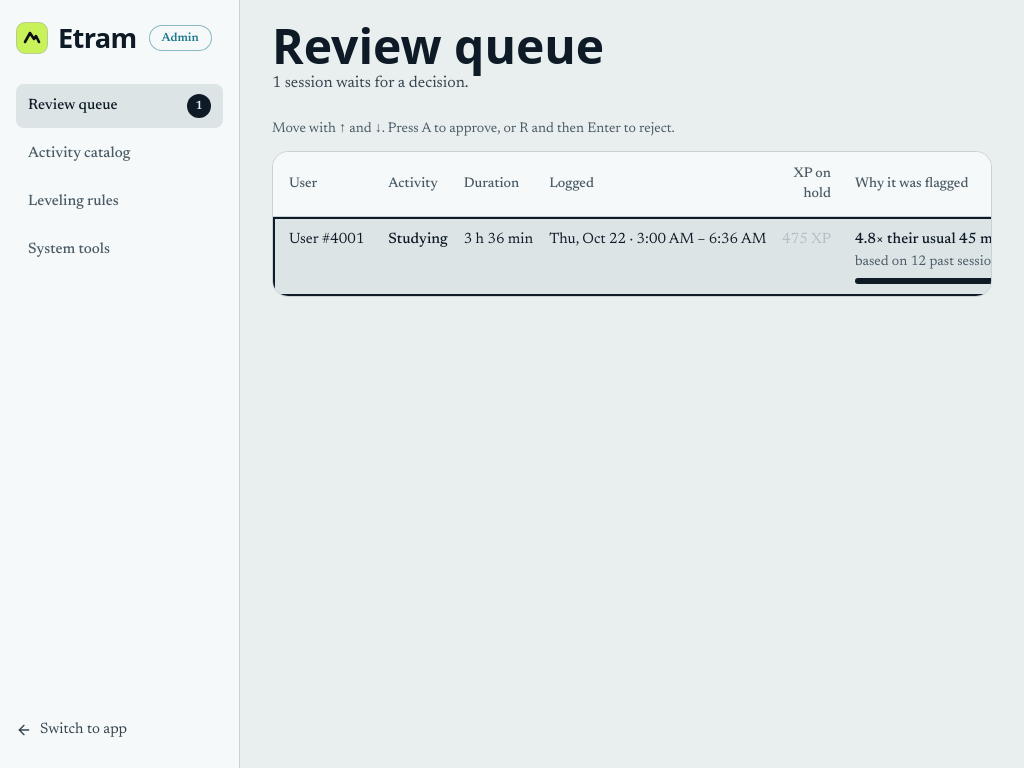
Test: Review queue — the side panel › opens the evidence for a row, and decides from it
The image size is (1024, 768).
Click the text "User #4001": (648, 256) [273, 217, 1023, 296]
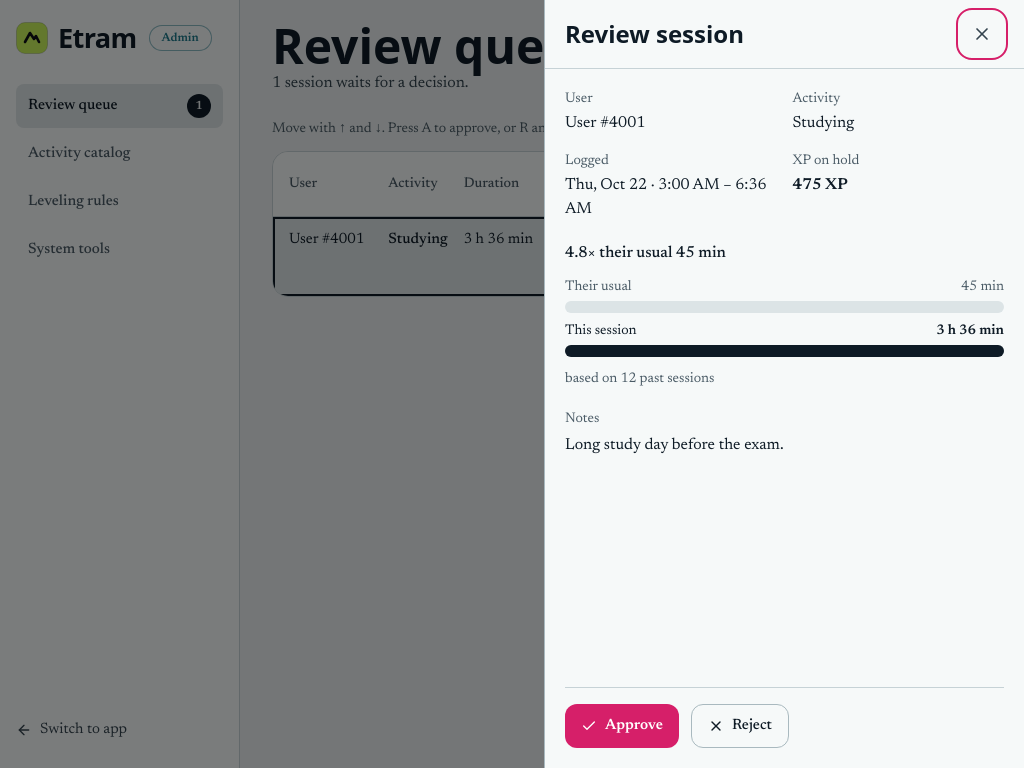
Expected: the heading "4.8× their usual 45 min" is shown, [565, 245, 726, 261]
Expected: the text "Their usual" is shown, [565, 277, 632, 297]
Expected: the text "This session" is shown, [565, 321, 637, 341]
Click the button "Approve": (622, 726) [565, 704, 679, 748]
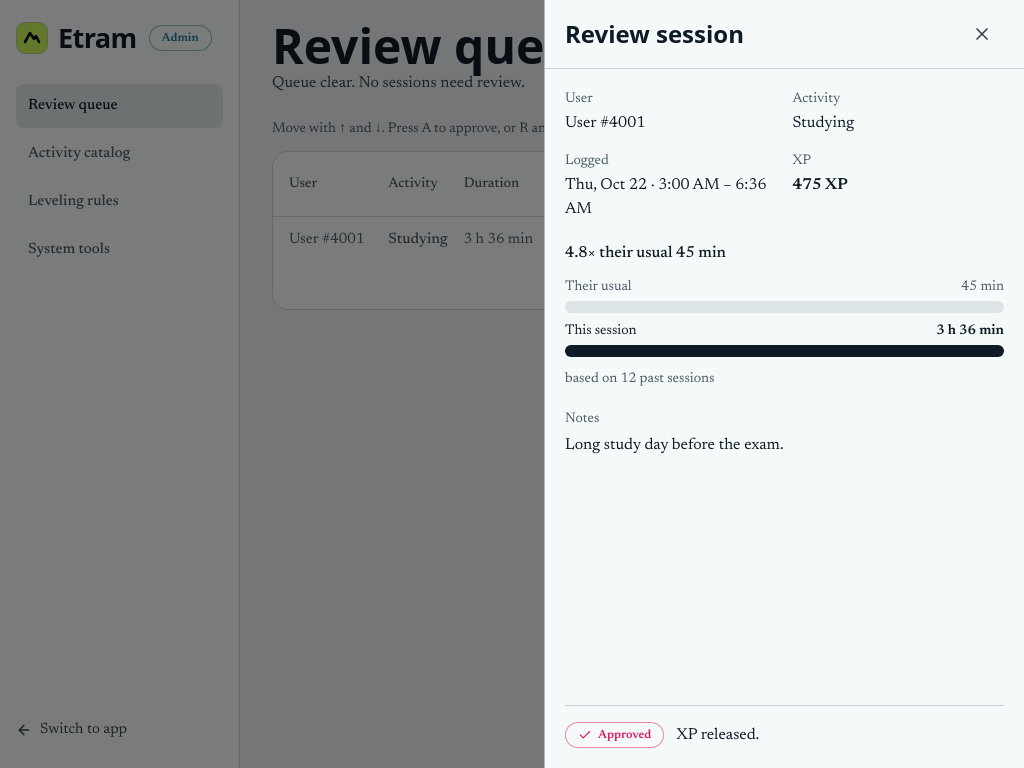
Expected: the text "XP released." is shown, [676, 727, 759, 743]
